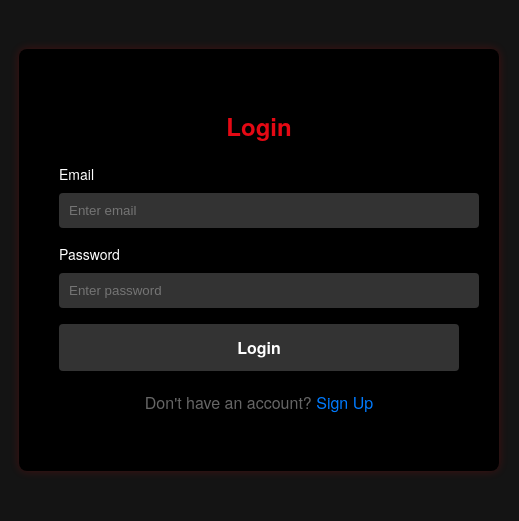
LoginPage › shows error with invalid credentials
The width and height of the screenshot is (519, 521).
Type "invalid@example.com" into the field with placeholder "Enter email". click: (269, 211)
box: [59,194,479,228]
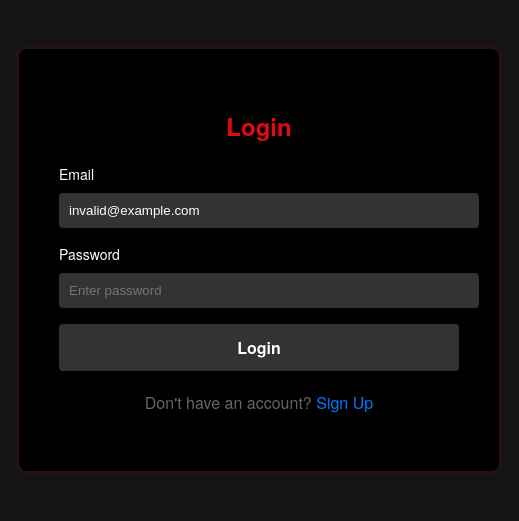
Type "wrongpass" into the password field with placeholder "Enter password". click: (269, 291)
box: [59,274,479,308]
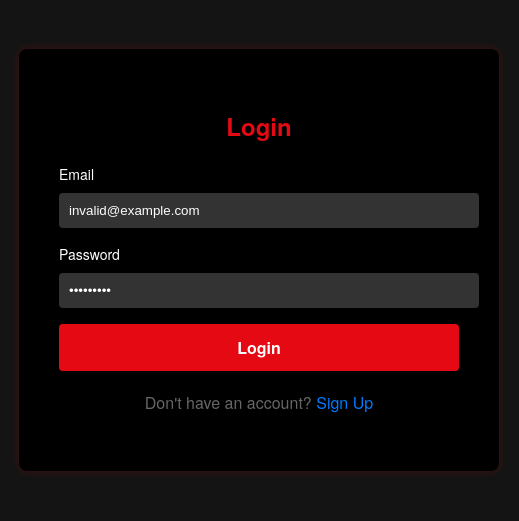
Click the button "Login". click: (259, 348)
box: [59,324,459,372]
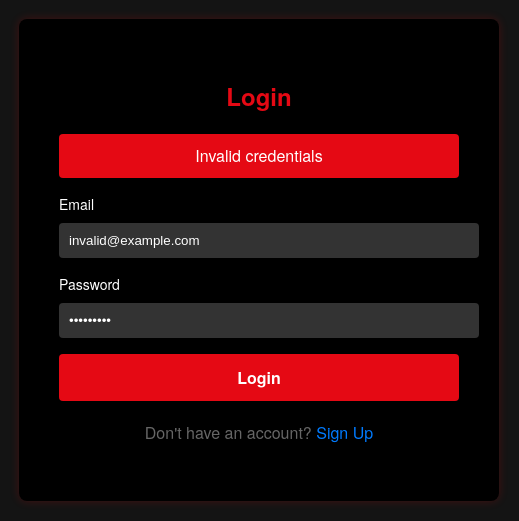
Check: the text "Invalid credentials" is shown, box [59,134,459,178]
